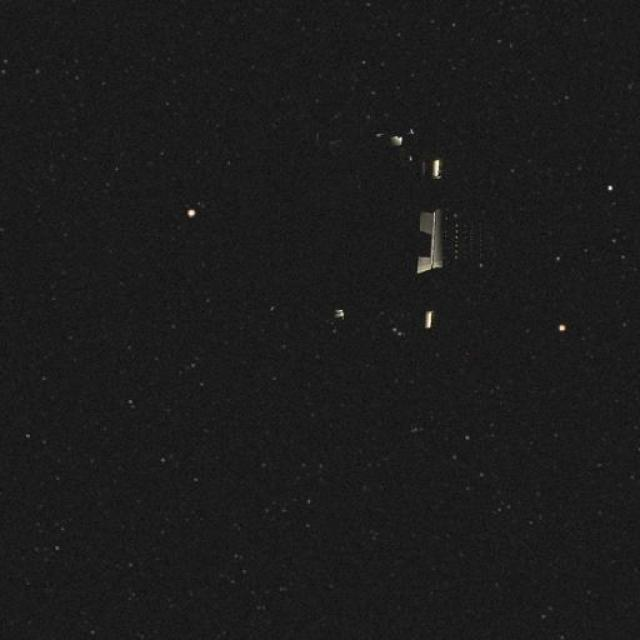proba_3_csc: (228, 75, 506, 367)
